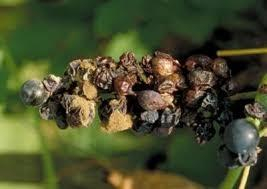Grape Rotten: (19, 48, 266, 168)
